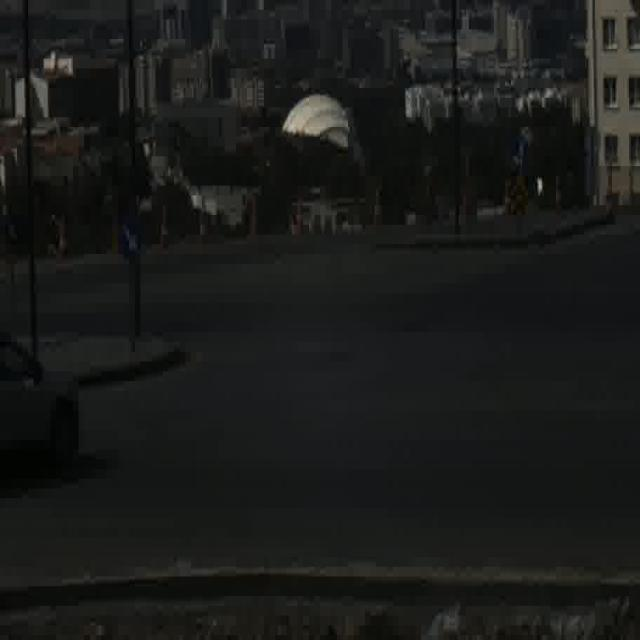Car: (0, 323, 81, 469)
